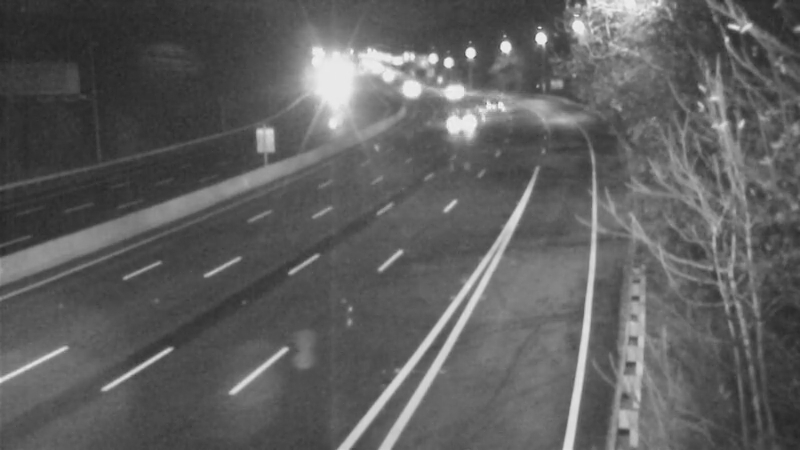vehicle: (388, 66, 438, 116), (429, 67, 479, 117), (461, 81, 511, 131), (437, 98, 487, 148)
